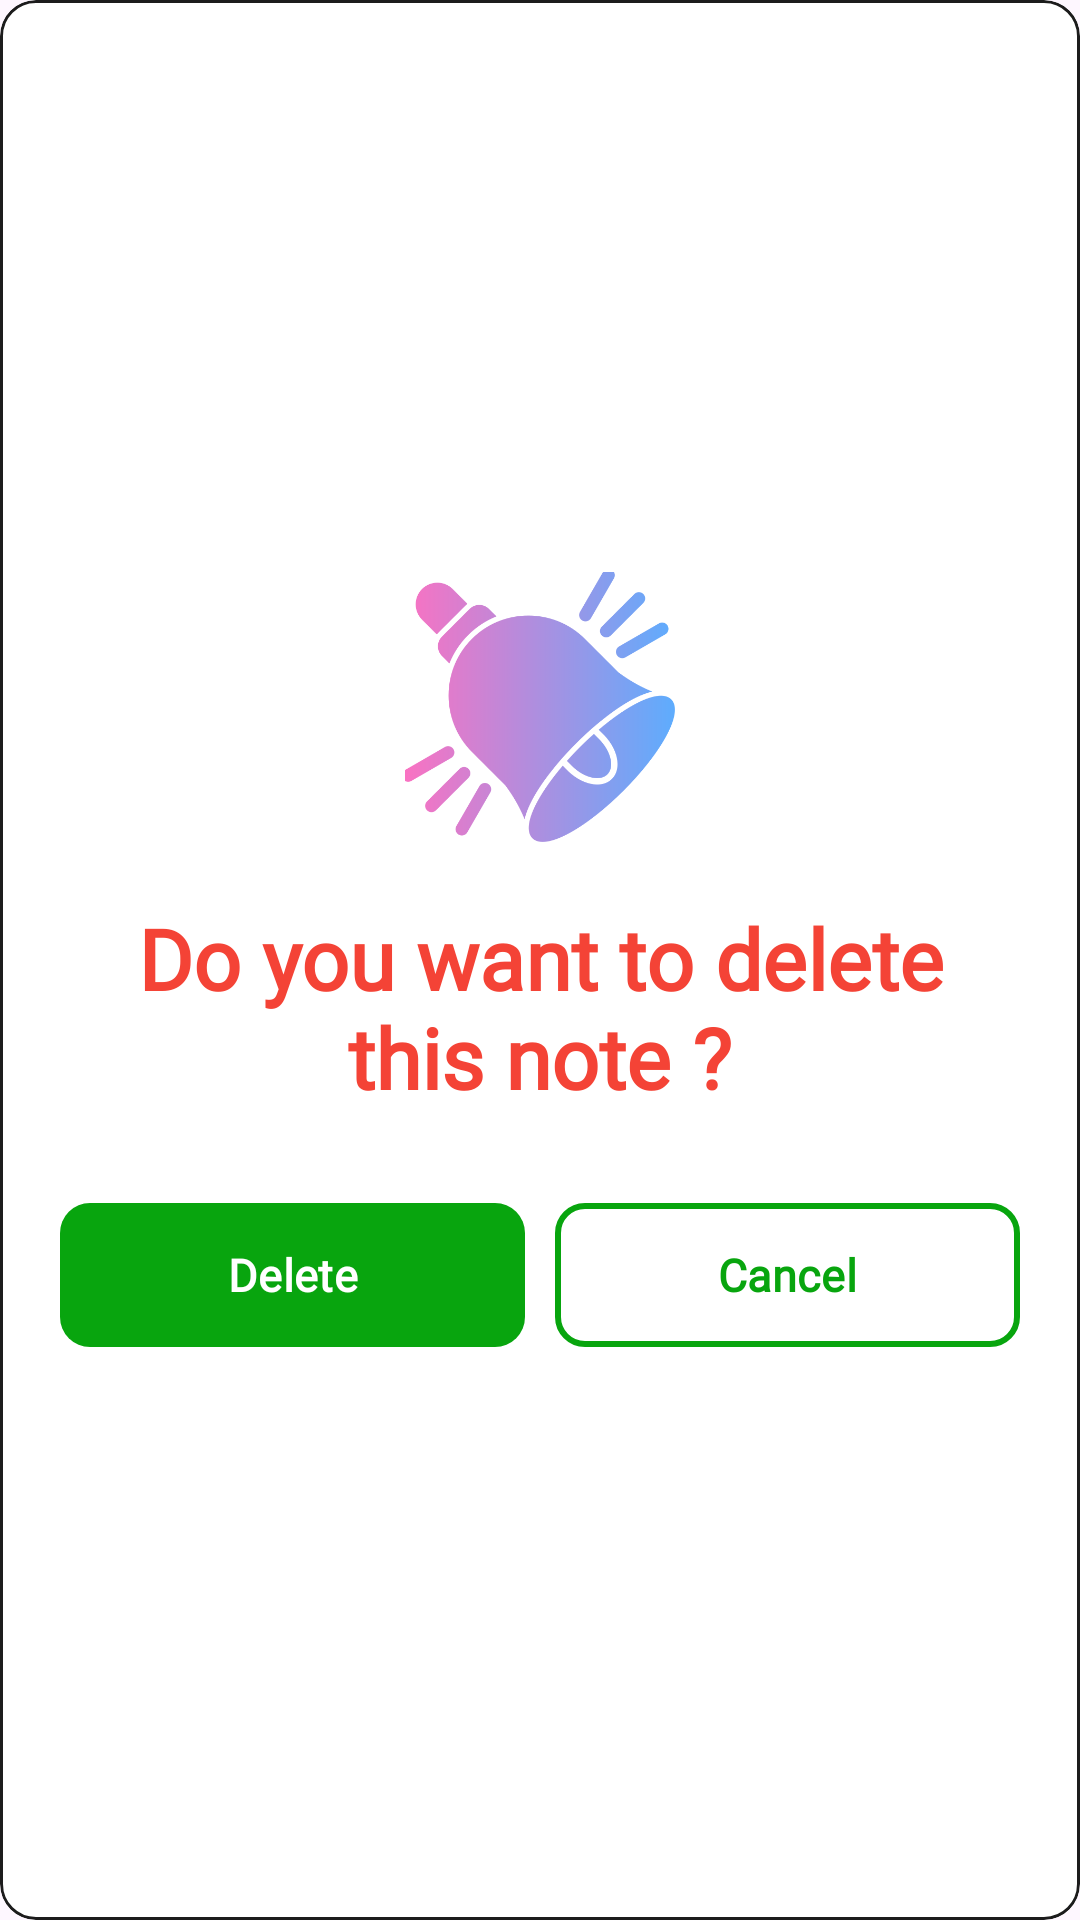

Where icons sit on this 1080 × 1920 app screen, as (x1, y1, x2, y2):
alert: (405, 572, 675, 842)
